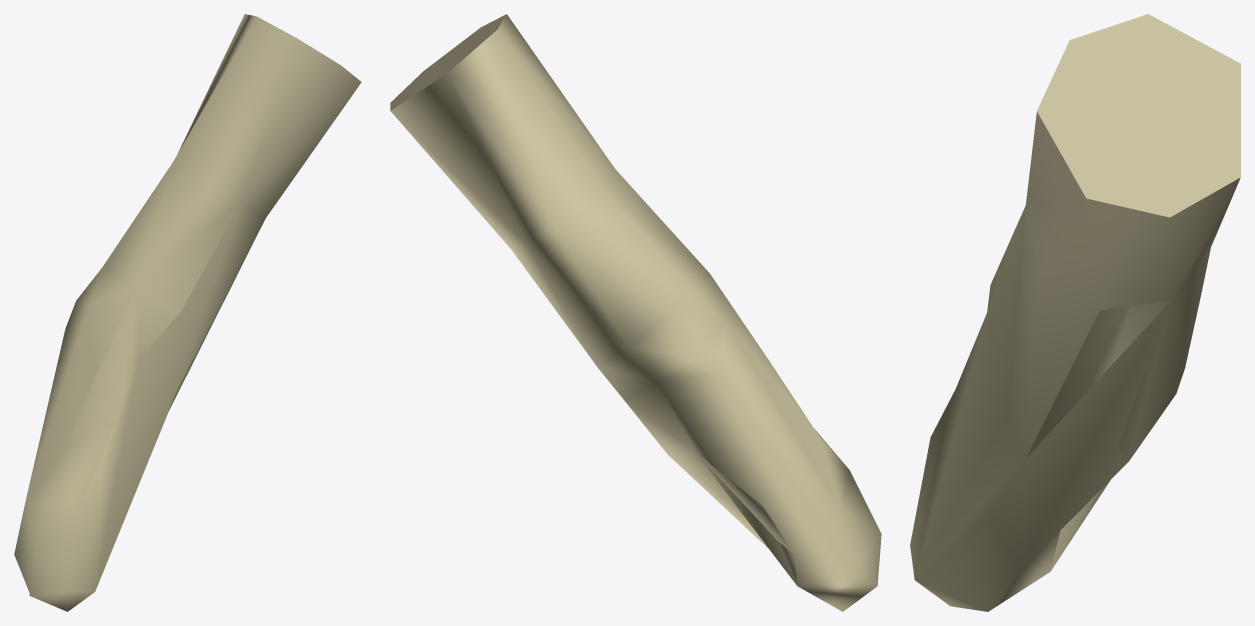
The model's file is Nao6_Left_Hand_Bottom_Finger.obj.
3 renders of one model, left to right at view 1: azimuth 30°, elevation 25°; view 2: azimuth 150°, elevation 25°; view 3: azimuth 270°, elevation 25°, orthographic. The views are drawn at different scales.
Parts seen in each view (by area): view 1: Nao6_Left_Hand_Bottom_Finger; view 2: Nao6_Left_Hand_Bottom_Finger; view 3: Nao6_Left_Hand_Bottom_Finger.
Boxes of the visible parts, x1,y1,x2,y2 form: Nao6_Left_Hand_Bottom_Finger: (14, 14, 361, 611); Nao6_Left_Hand_Bottom_Finger: (390, 14, 881, 611); Nao6_Left_Hand_Bottom_Finger: (910, 14, 1240, 611).
Size of the model in its own units: 0.1979 by 0.249 by 0.0946.
